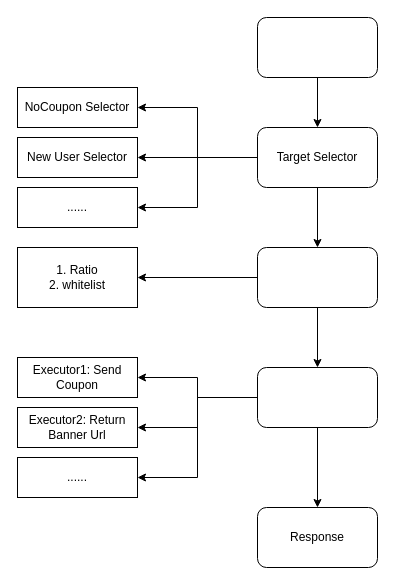
Image size: 395x585. Some labels were removed from this diagram. The box of each missing label's shape, as (x1, y1, x2, y2) in pixels:
AB Test Service: (256, 16, 378, 78)
Experiment Selector: (256, 246, 378, 308)
TaskExecutor: (256, 366, 378, 428)
